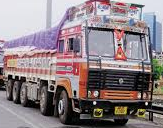truck: (4, 1, 153, 126)
